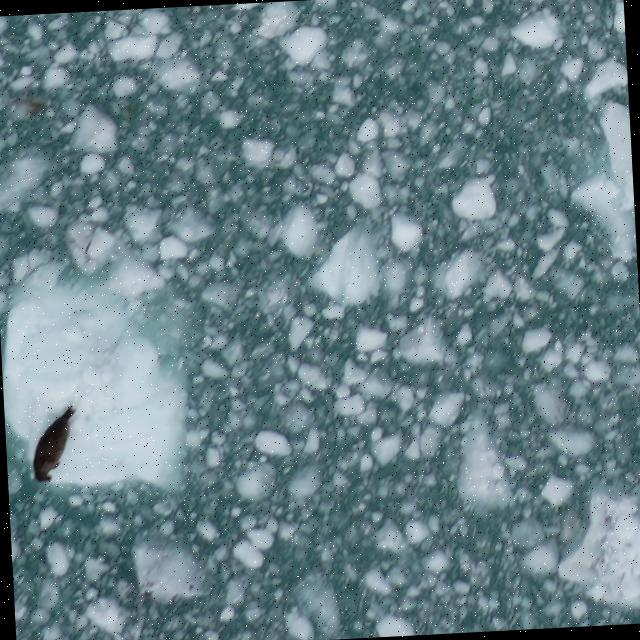seal: (27, 402, 83, 485)
